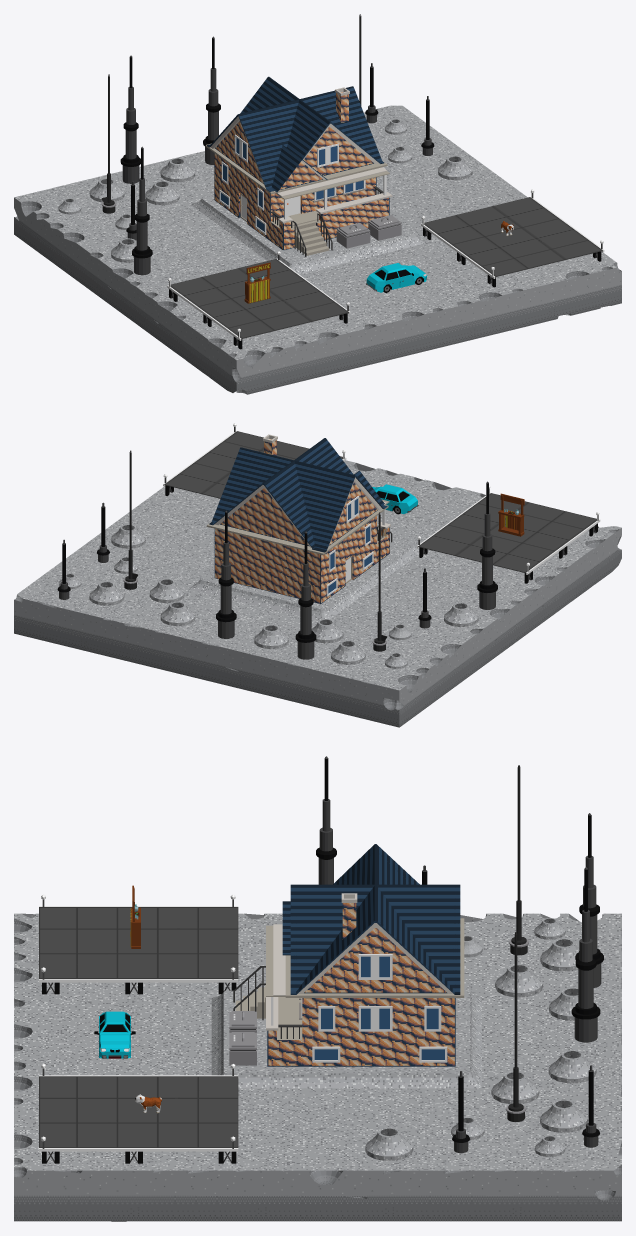
3 views of the same model, one above another, from view 1: azimuth 30°, elevation 25°; view 2: azimuth 150°, elevation 25°; view 3: azimuth 270°, elevation 25° (orthographic). The views are drawn at different scales.
Visible parts, largest first — view 1: Cube.027, Cube.430, Cube.026, Cube.025, Cube.028, Cylinder.020, Cylinder.021, VEHICLES_CAR, Cylinder.017, OBJRANDOM_LEMONADE_STAND, Cube.029, Cube.030 (+4 smaller); view 2: Cube.027, Cube.430, Cube.025, Cube.028, Cube.026, Cylinder.020, Cylinder.021, Cylinder.017, VEHICLES_CAR, OBJRANDOM_LEMONADE_STAND, Cylinder.031, Cylinder.028 (+8 smaller); view 3: Cube.027, Cube.430, Cube.026, Cube.025, Cube.028, Cylinder.017, VEHICLES_CAR, Cylinder.020, Cylinder.021, Cylinder.033, Cylinder.031, Cylinder.029 (+9 smaller).
Boxes of the visible parts, left/top/right/bottom form: Cube.027: left=14, top=105, right=621, bottom=394; Cube.430: left=205, top=76, right=392, bottom=256; Cube.026: left=421, top=189, right=604, bottom=287; Cube.025: left=167, top=251, right=350, bottom=349; Cube.028: left=191, top=195, right=424, bottom=274; Cylinder.020: left=120, top=55, right=140, bottom=183; Cylinder.021: left=132, top=146, right=152, bottom=275; VEHICLES_CAR: left=366, top=263, right=427, bottom=292; Cylinder.017: left=203, top=36, right=220, bottom=164; OBJRANDOM_LEMONADE_STAND: left=244, top=262, right=270, bottom=303; Cube.029: left=336, top=222, right=370, bottom=248; Cube.030: left=368, top=215, right=401, bottom=240; Cube.027: left=14, top=460, right=621, bottom=727; Cube.430: left=206, top=434, right=392, bottom=603; Cube.025: left=417, top=485, right=600, bottom=583; Cube.028: left=190, top=538, right=419, bottom=620; Cube.026: left=163, top=423, right=346, bottom=498; Cylinder.020: left=295, top=531, right=316, bottom=659; Cylinder.021: left=477, top=481, right=497, bottom=609; Cylinder.017: left=216, top=510, right=236, bottom=638; VEHICLES_CAR: left=372, top=484, right=418, bottom=514; OBJRANDOM_LEMONADE_STAND: left=498, top=493, right=524, bottom=536; Cylinder.031: left=89, top=581, right=124, bottom=605; Cylinder.028: left=331, top=640, right=365, bottom=664; Cube.027: left=14, top=913, right=621, bottom=1221; Cube.430: left=233, top=844, right=464, bottom=1066; Cube.026: left=39, top=1064, right=238, bottom=1163; Cube.025: left=39, top=894, right=238, bottom=994; Cube.028: left=211, top=990, right=481, bottom=1088; Cylinder.017: left=571, top=867, right=600, bottom=1042; VEHICLES_CAR: left=94, top=1011, right=135, bottom=1058; Cylinder.020: left=575, top=813, right=603, bottom=987; Cylinder.021: left=316, top=756, right=336, bottom=884; Cylinder.033: left=365, top=1127, right=413, bottom=1160; Cylinder.031: left=540, top=1099, right=587, bottom=1132; Cylinder.029: left=548, top=1050, right=596, bottom=1083.
Size of the model in its own units: 4000 by 1772 by 4000.
43 materials, 5 textured.
